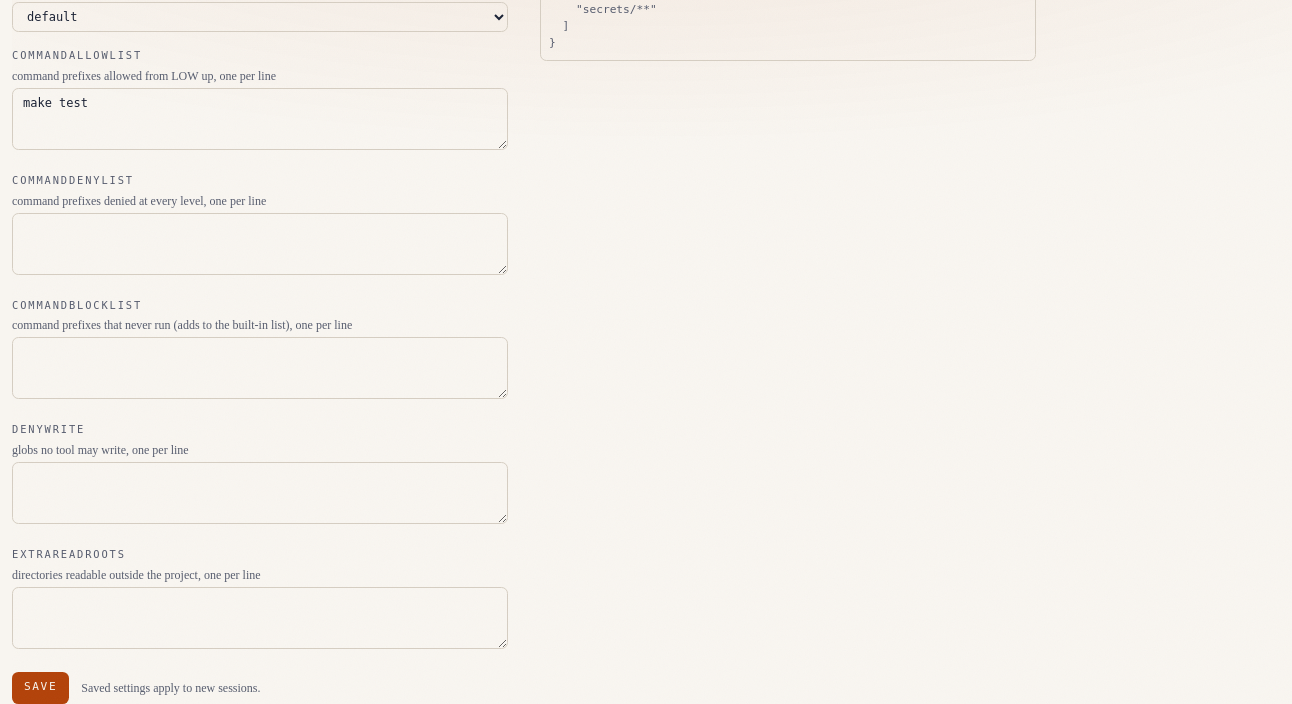
Scenario: SettingsView › shows the server's validation error inline
The image size is (1292, 704).
(page scrolled)
Click the button "save": coordinates (41, 688) [12,672,69,703]
(page scrolled)
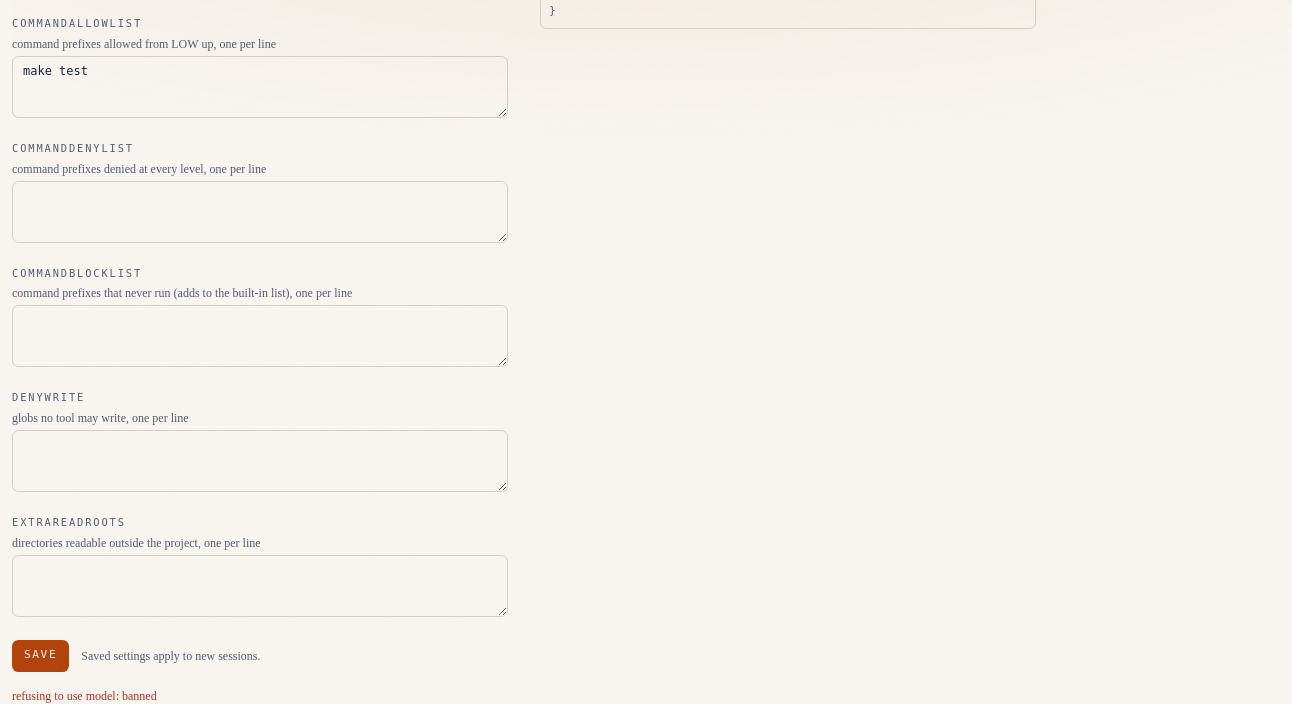
Expected: the message shows "refusing to use model", [12,688,157,702]
